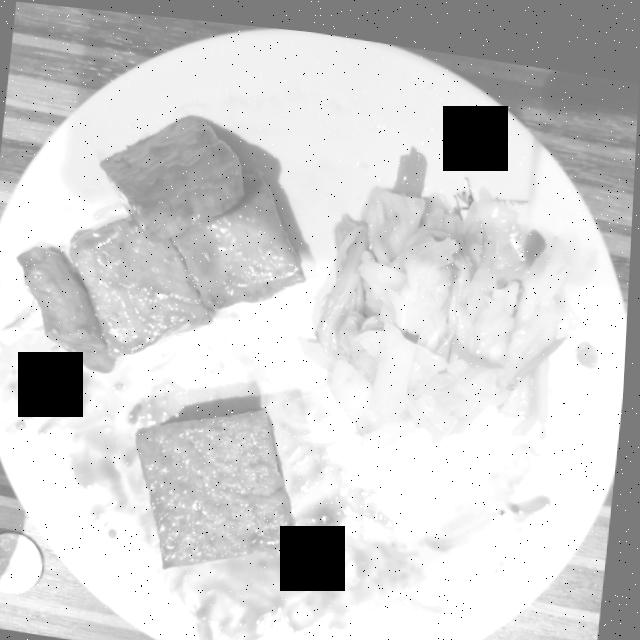cabbage: (306, 179, 582, 438)
coin: (0, 531, 49, 592)
creamy tofu: (21, 111, 307, 370)
egg tofu: (140, 402, 302, 564)
